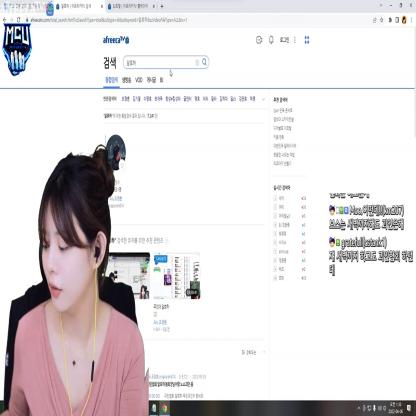streamer: (0, 144, 144, 416)
